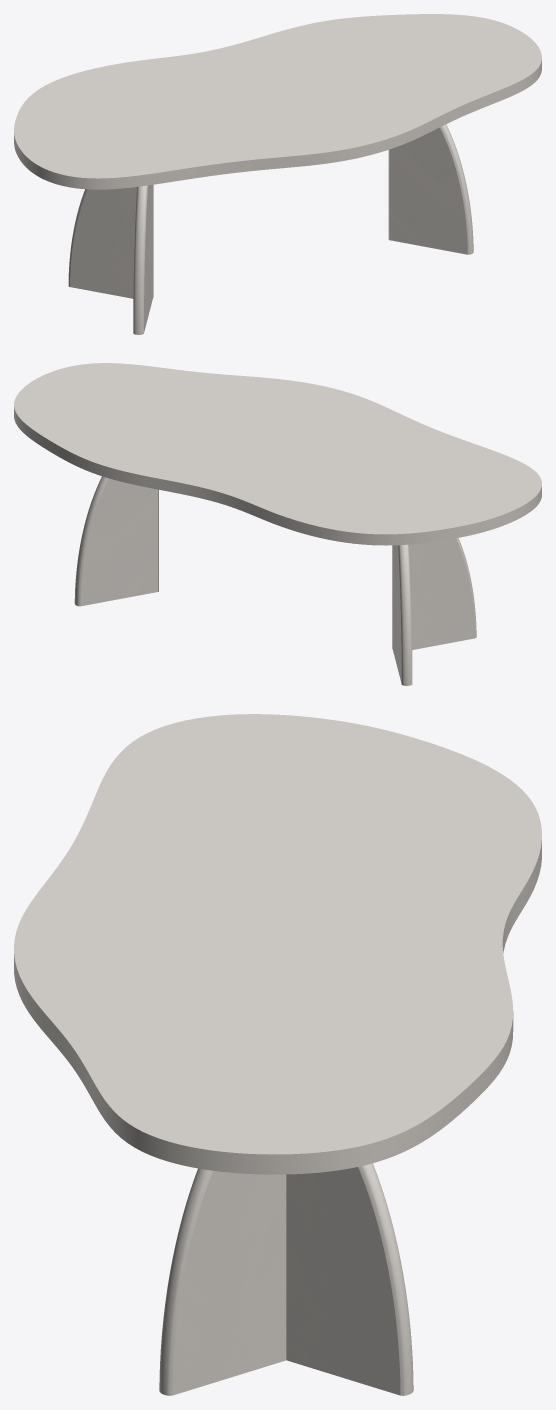
The model's file is pearlwhite_toplast_standard_newtable2.glb.
3 renders of one model, top to bottom at view 1: azimuth 30°, elevation 25°; view 2: azimuth 150°, elevation 25°; view 3: azimuth 270°, elevation 25°, orthographic. The views are drawn at different scales.
Visible parts, largest first — view 1: standard_toplast, newtable2_singleright2, newtable2_singleleft1, newtable2_singleright1; view 2: standard_toplast, newtable2_singleleft2, newtable2_singleright1, newtable2_singleleft1; view 3: standard_toplast, newtable2_singleleft2, newtable2_singleright2.
Boxes of the visible parts, bbox=[...] form: standard_toplast: bbox=[14, 14, 541, 189]; newtable2_singleright2: bbox=[388, 124, 473, 254]; newtable2_singleleft1: bbox=[68, 185, 153, 298]; newtable2_singleright1: bbox=[133, 185, 153, 334]; standard_toplast: bbox=[14, 363, 541, 545]; newtable2_singleleft2: bbox=[74, 476, 158, 606]; newtable2_singleright1: bbox=[392, 538, 476, 649]; newtable2_singleleft1: bbox=[392, 544, 412, 685]; standard_toplast: bbox=[14, 714, 541, 1174]; newtable2_singleleft2: bbox=[286, 1163, 413, 1395]; newtable2_singleright2: bbox=[159, 1168, 286, 1395].
Bounding box in the file's own units: 7.5 × 2.5 × 3.8.
1 material, 1 textured.
